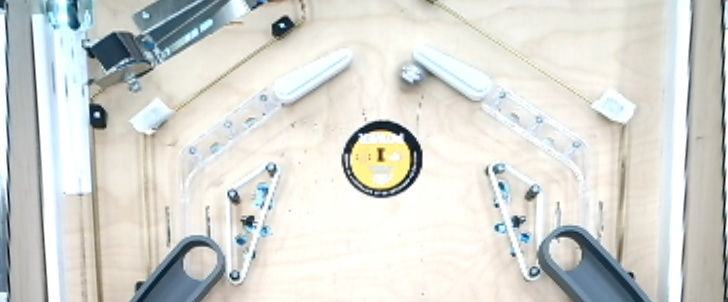ball: (395, 56, 428, 89)
flipper-left: (410, 39, 496, 105)
flipper-right: (269, 45, 359, 106)
